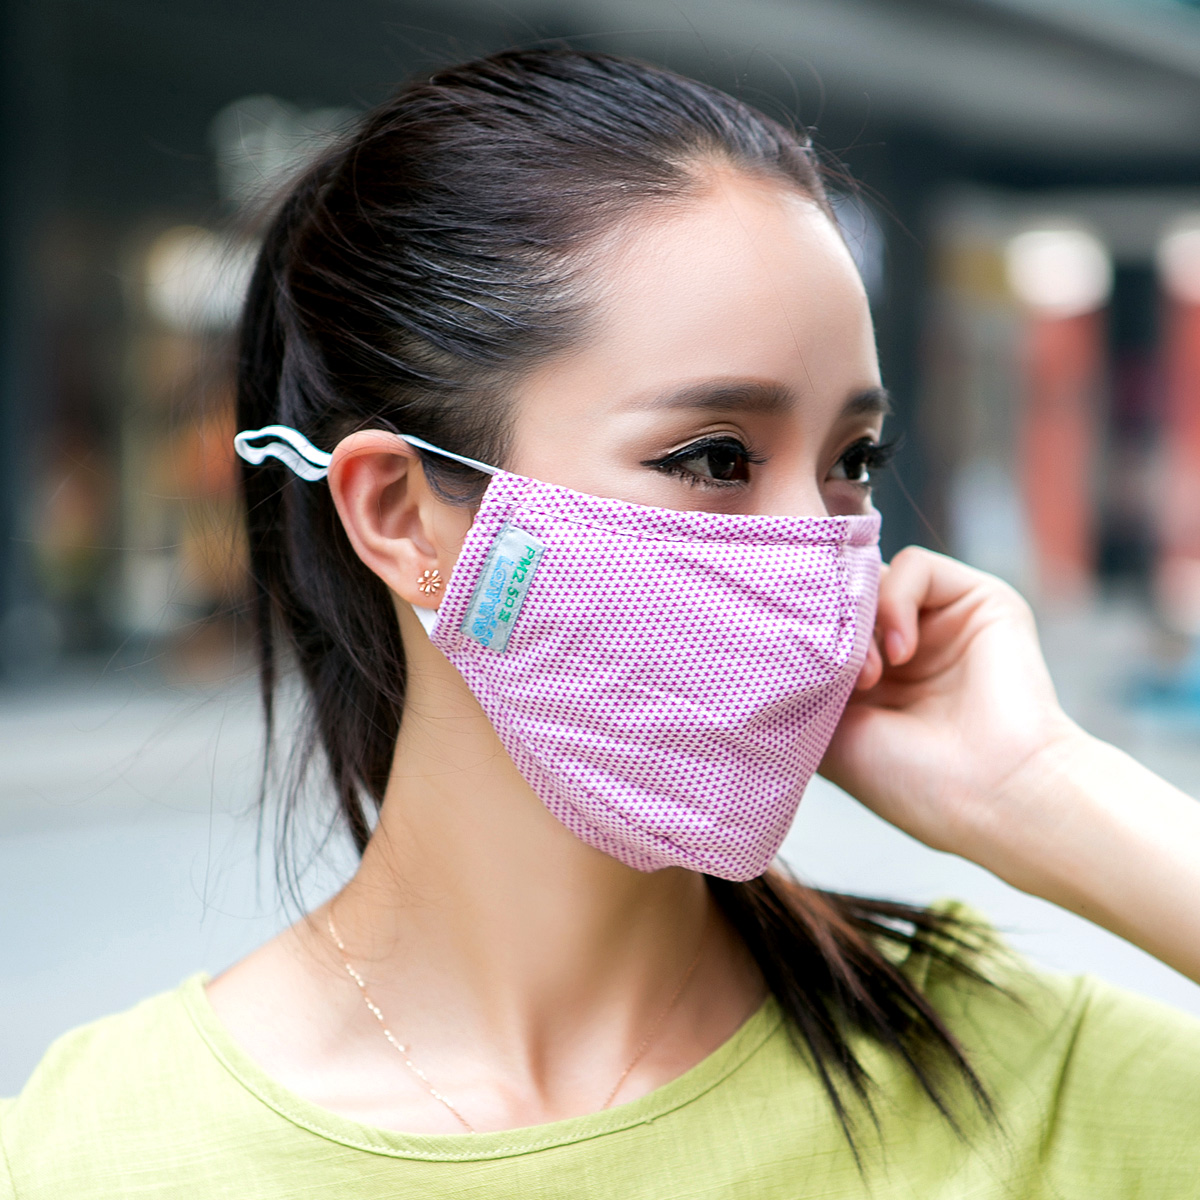face_mask: (463, 196, 885, 880)
